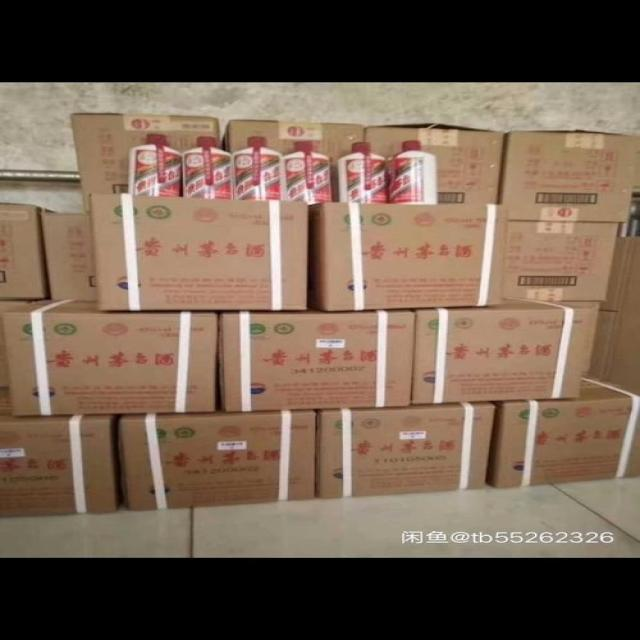Carton: (90, 195, 492, 509), (321, 133, 639, 311), (1, 310, 215, 417), (413, 310, 590, 403), (495, 397, 639, 487), (0, 420, 109, 519), (507, 223, 613, 300)
